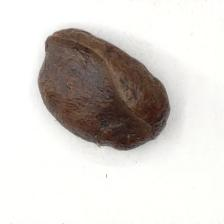NG: (38, 35, 111, 135), (101, 77, 151, 150)
